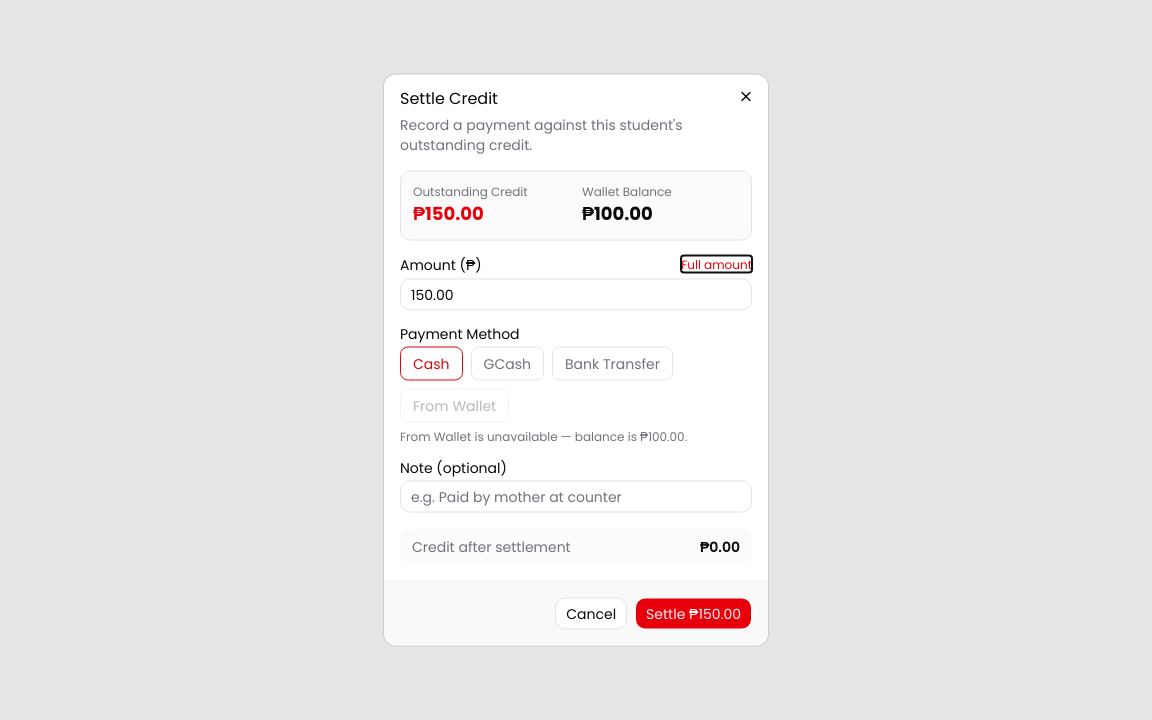
Test: SettleCreditDialog › falls back off From Wallet when the amount rises past the balance
Clear the number field labelled "Amount (₱)". click: [576, 294]
box: [400,278,752,310]
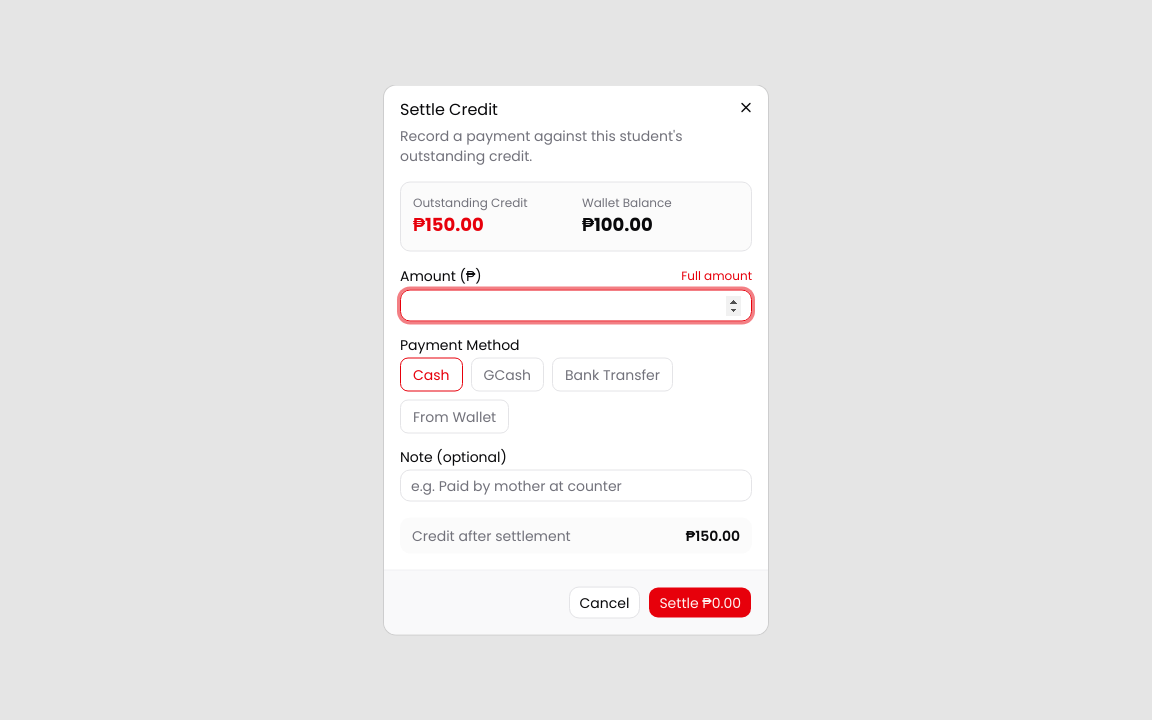
Type "50" into the number field labelled "Amount (₱)". click: [576, 306]
box: [400,290,752,322]
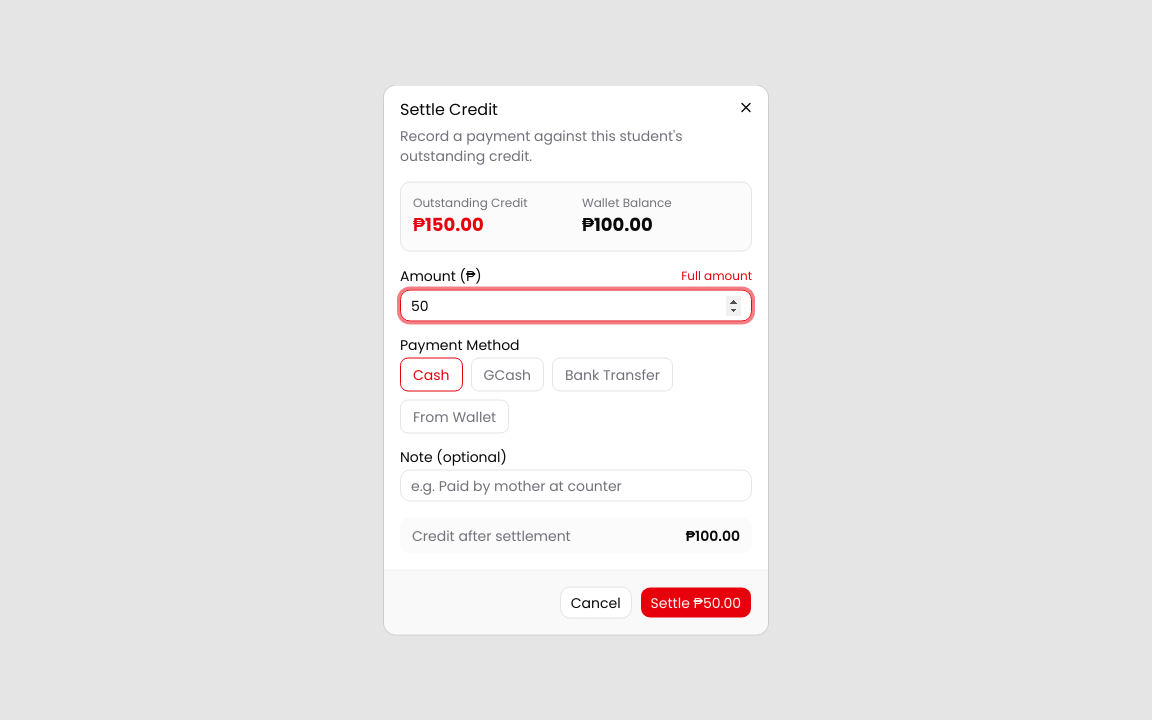
Click the button "From Wallet". click: [455, 416]
box: [400,400,509,434]
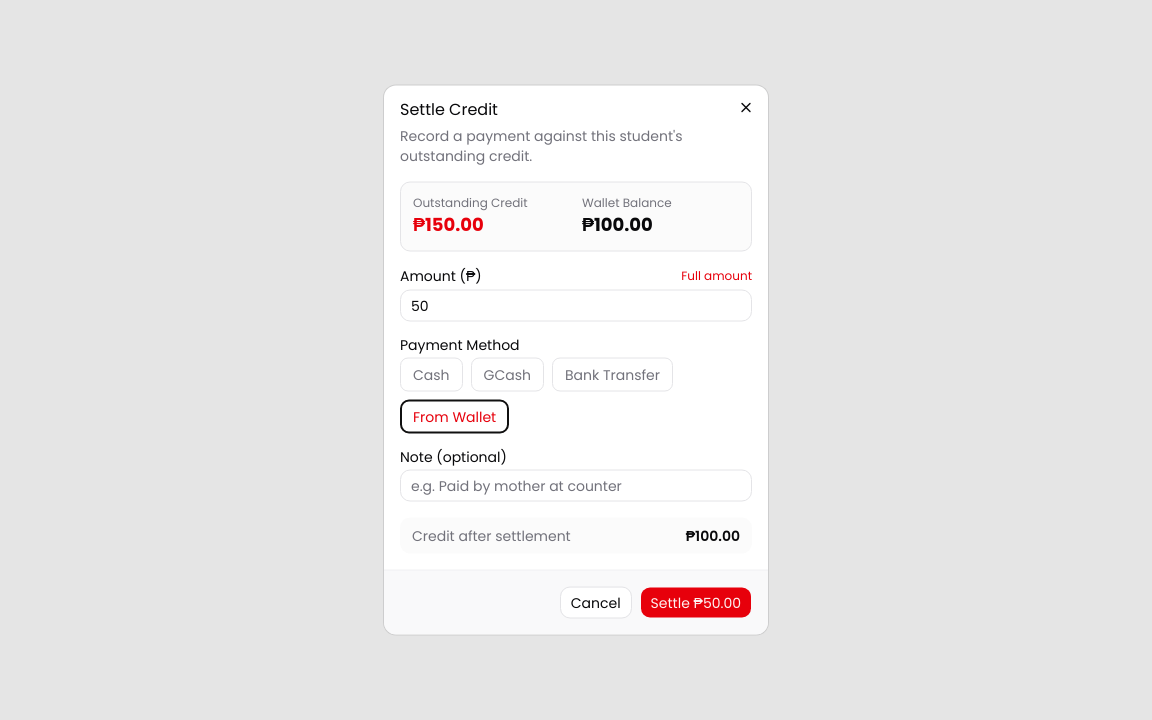
Expected: the button "From Wallet" is pressed, [400,400,509,434]
Replace the text in the number field labelled "Amount (₱)" with "150". click: [576, 306]
box: [400,290,752,322]
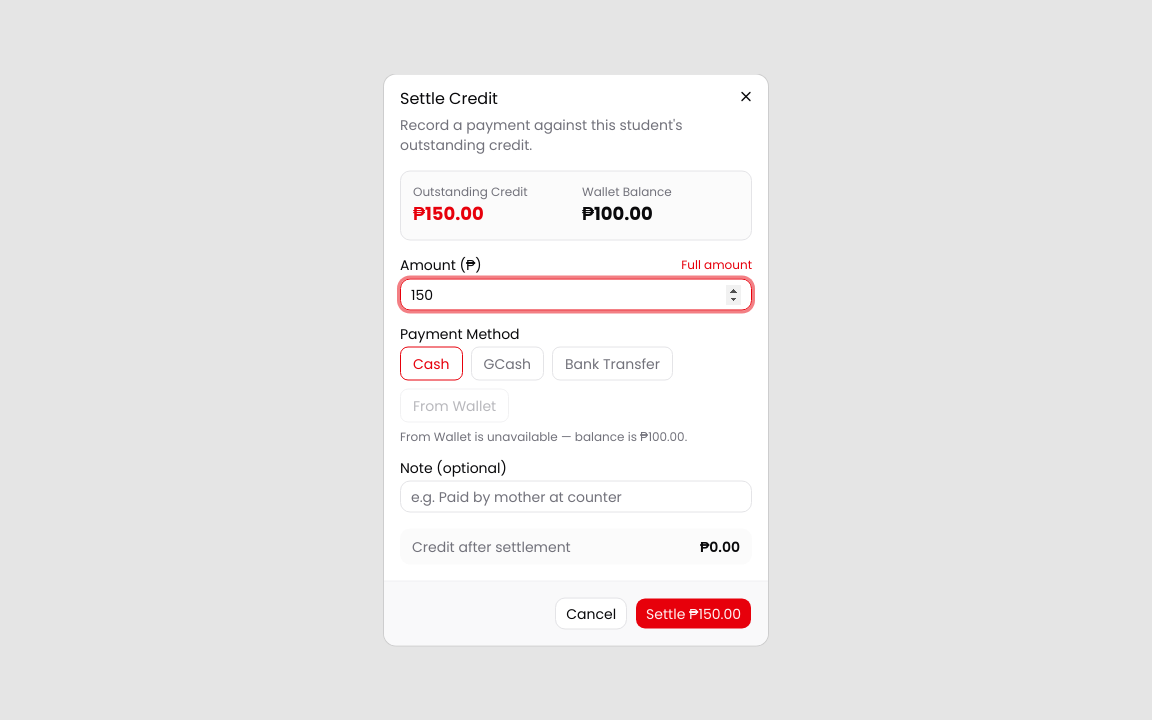
Expected: the button "From Wallet" is disabled, [400,388,509,422]
